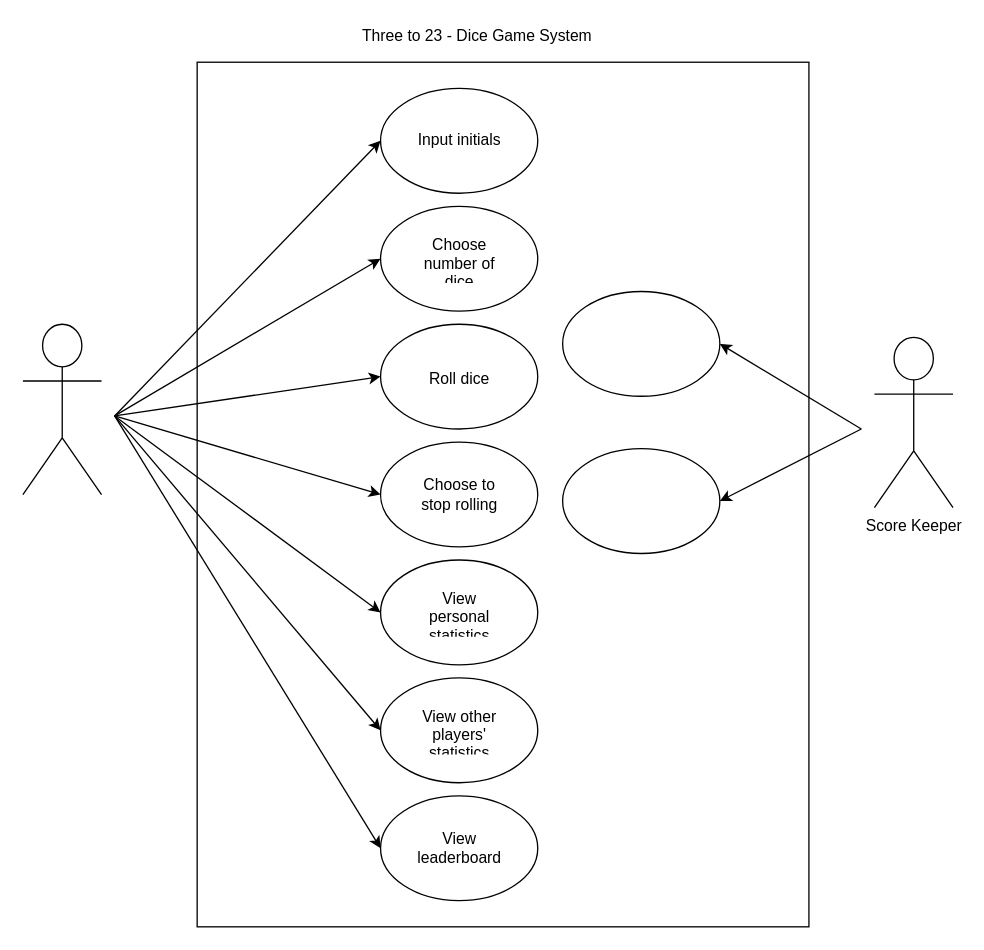
This 984x950 diagram has some shape labels left out. Here are the shapes that lost their labels. From the top down, the box of each, then its label:
(561, 290, 720, 396): Set score
(22, 323, 102, 495): Player
(561, 447, 720, 553): Get Score
